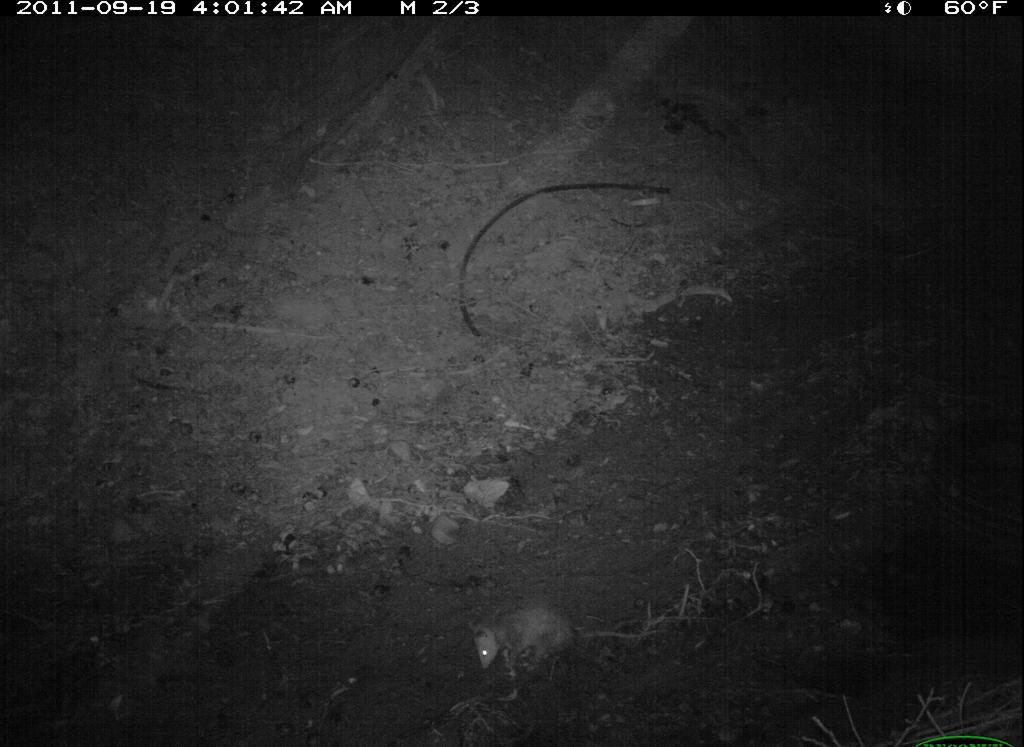opossum: (461, 588, 657, 684)
